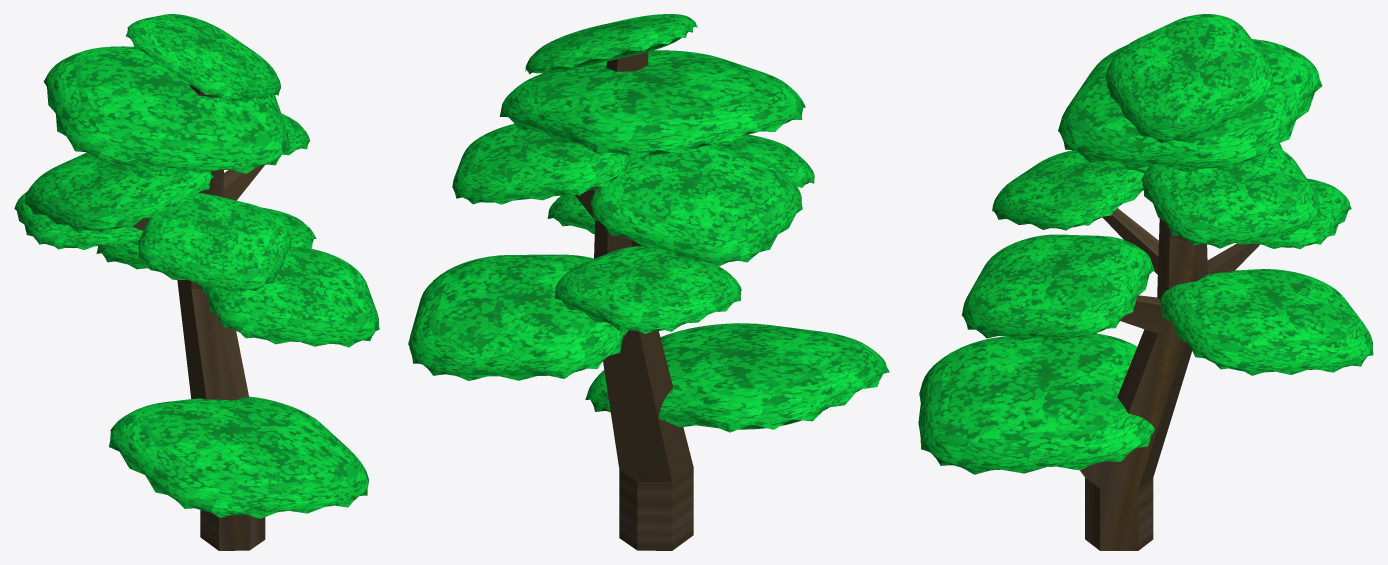
Rendered from бансай.fbx.
The picture shows the model from 3 angles, left to right: view 1: azimuth 30°, elevation 25°; view 2: azimuth 150°, elevation 25°; view 3: azimuth 270°, elevation 25°; orthographic projection. The views are drawn at different scales.
Parts seen in each view (by area): view 1: Cube.075, Cube.082, Cube.076, Cube.078, Cube.080, Cube.074, Cube.083, Cube.079, Cube.077, Cube.081; view 2: Cube.082, Cube.077, Cube.075, Cube.080, Cube.074, Cube.079, Cube.081, Cube.083, Cube.078, Cube.076; view 3: Cube.075, Cube.074, Cube.077, Cube.076, Cube.083, Cube.082, Cube.081, Cube.078, Cube.079.
Part boxes in pixels (<box>): Cube.075: <box>109,396,368,518</box>; Cube.082: <box>43,46,289,173</box>; Cube.076: <box>201,246,379,347</box>; Cube.078: <box>138,193,291,293</box>; Cube.080: <box>24,152,213,232</box>; Cube.074: <box>132,84,265,550</box>; Cube.083: <box>126,14,280,102</box>; Cube.079: <box>14,191,143,249</box>; Cube.077: <box>96,207,316,269</box>; Cube.081: <box>281,113,310,155</box>; Cube.082: <box>499,50,805,157</box>; Cube.077: <box>408,254,628,380</box>; Cube.075: <box>585,323,889,432</box>; Cube.080: <box>589,144,802,266</box>; Cube.074: <box>575,52,693,550</box>; Cube.079: <box>554,245,741,333</box>; Cube.081: <box>452,124,633,204</box>; Cube.083: <box>525,14,697,74</box>; Cube.078: <box>713,134,814,187</box>; Cube.076: <box>547,194,594,233</box>; Cube.075: <box>918,333,1154,474</box>; Cube.074: <box>1080,208,1259,550</box>; Cube.077: <box>1159,269,1373,375</box>; Cube.076: <box>961,234,1154,341</box>; Cube.083: <box>1105,14,1274,143</box>; Cube.082: <box>1058,39,1322,172</box>; Cube.081: <box>1141,146,1320,248</box>; Cube.078: <box>992,150,1143,230</box>; Cube.079: <box>1236,178,1351,249</box>.
Size of the model in its own units: 145 by 235 by 194.
